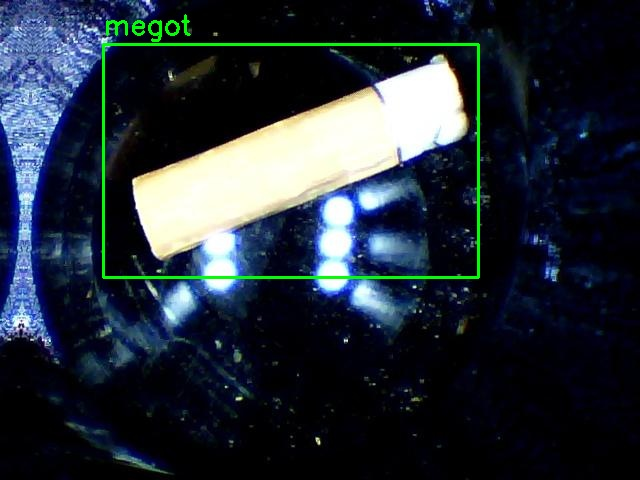megot: (103, 44, 478, 277)
